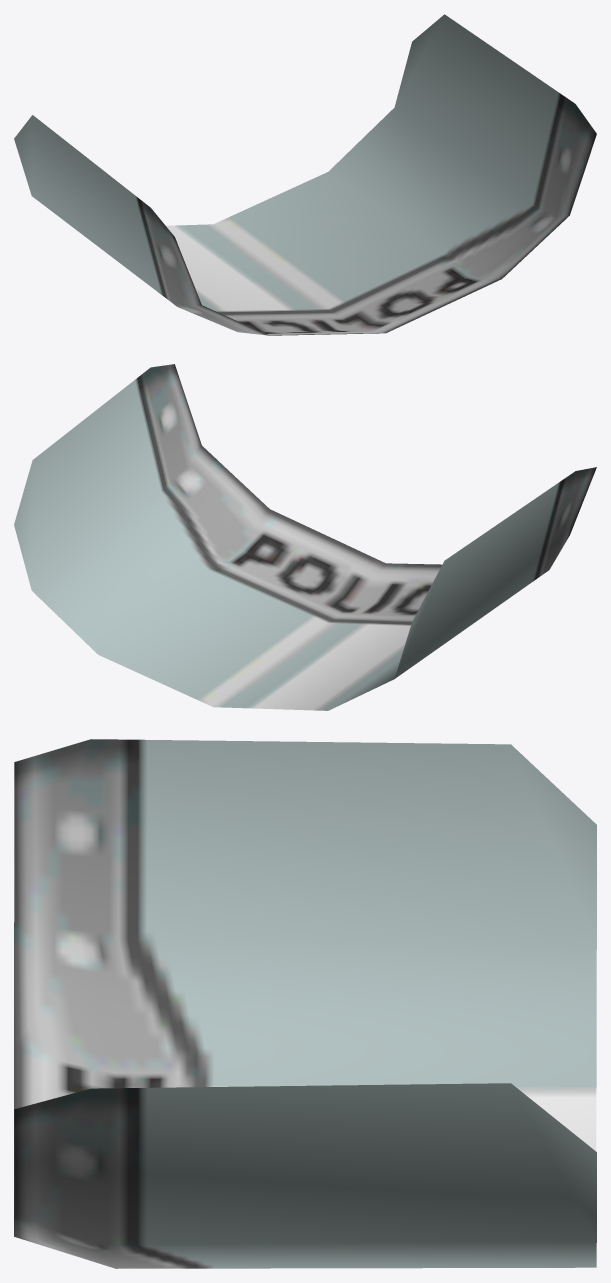
The model's file is Avatar_Swat_H_02_0_218c11d0__Avatar_Swat_A_02_8cb313a4_c1f257.obj.
3 renders of one model, top to bottom at view 1: azimuth 30°, elevation 25°; view 2: azimuth 150°, elevation 25°; view 3: azimuth 270°, elevation 25°, orthographic. The views are drawn at different scales.
Bounding box in the file's own units: 0.7979 × 0.3204 × 0.5626.
1 material, 1 textured.
